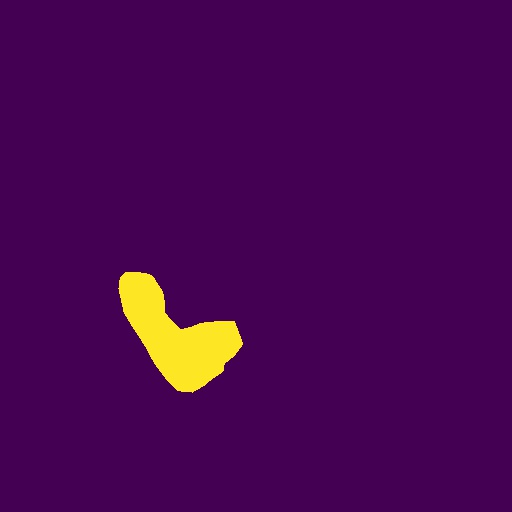Gliomia_tumour: (118, 272, 243, 393)
